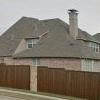Chimney: (62, 4, 82, 42)
